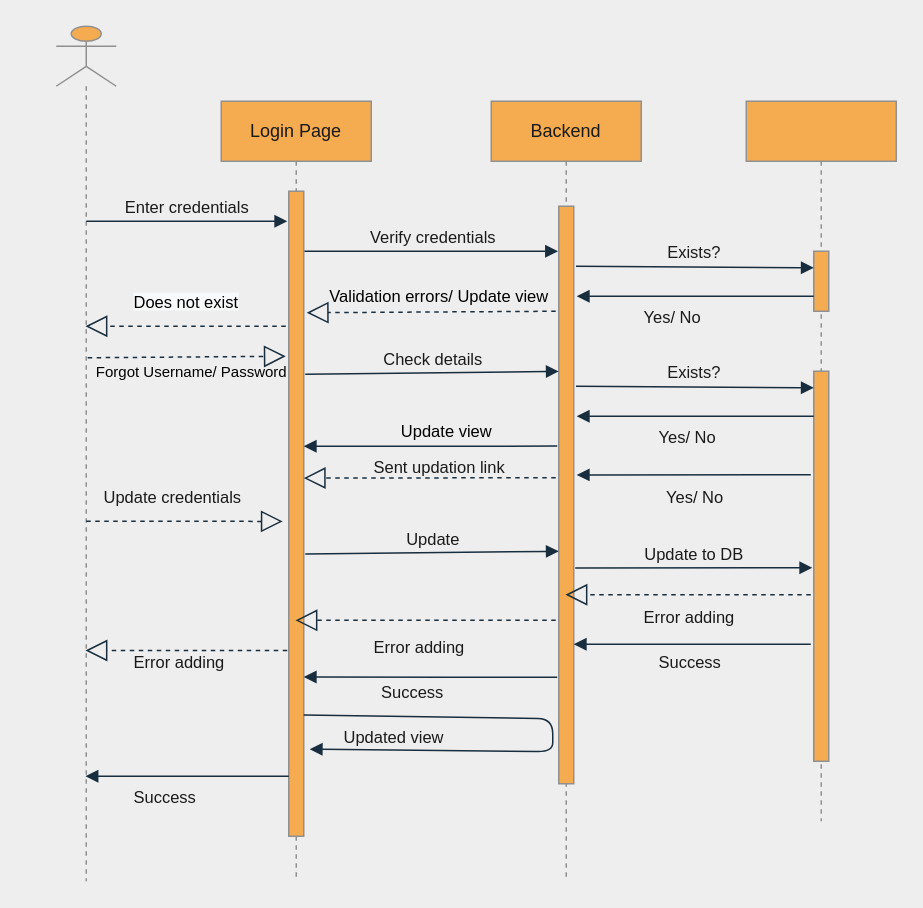
This 923x908 diagram has some shape labels left out. The shapes that lost their labels are listed below. From the top down, each one's box as (x1, y1, x2, y2) in pixels, then its label:
(55, 25, 116, 881): Shelter Staff
(745, 100, 896, 821): Database
